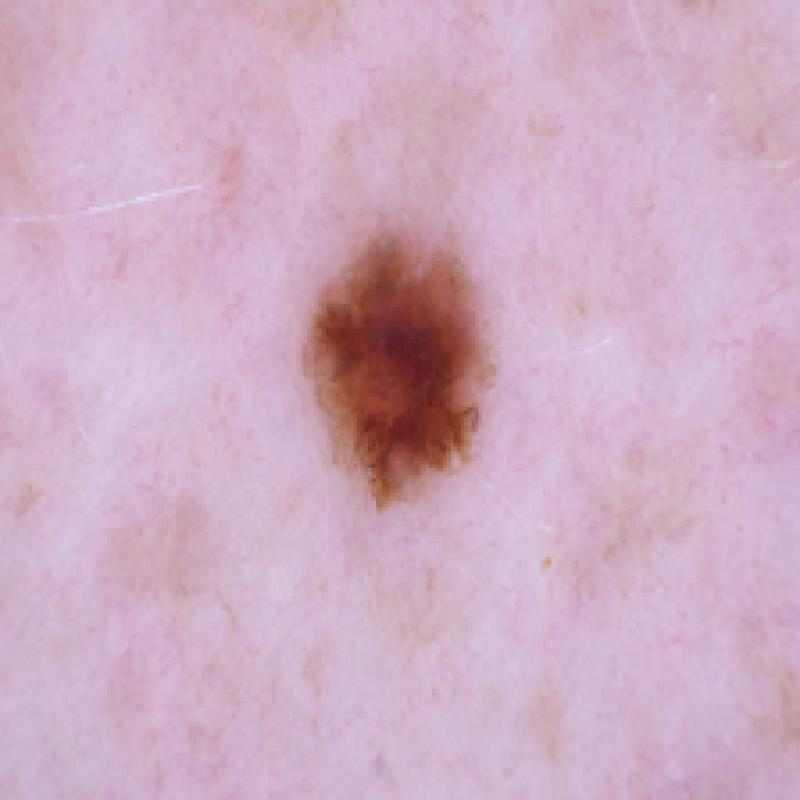benign: (293, 217, 521, 520)
